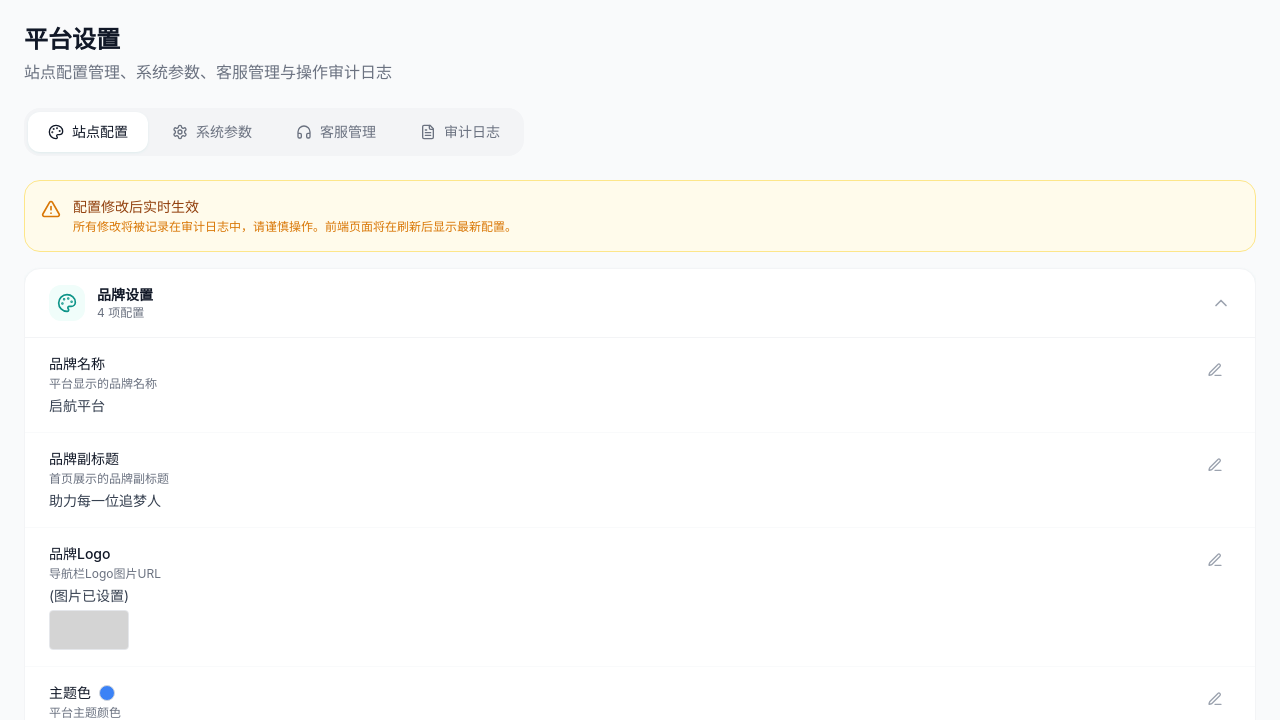
it: AdminSettings › 配置分组切换 › 正常：切换到"系统参数"Tab 后加载并渲染快捷配置项
Expected: the button "站点配置" is shown, [28,112,148,152]
# 点击"系统参数" Tab
Click the button "系统参数": coordinates (212, 132) [152,112,272,152]
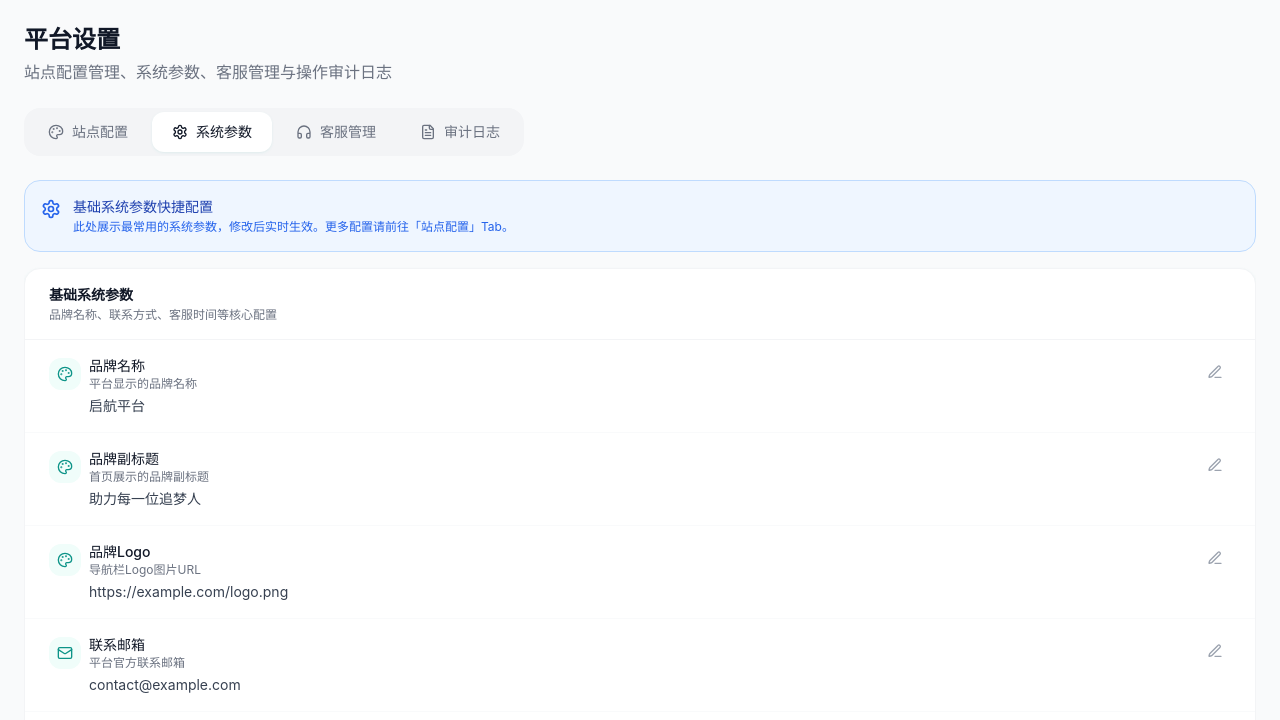
Expected: the text "品牌名称" is shown, [89,357,145,374]
Expected: the heading "基础系统参数" is shown, [49,286,133,303]
